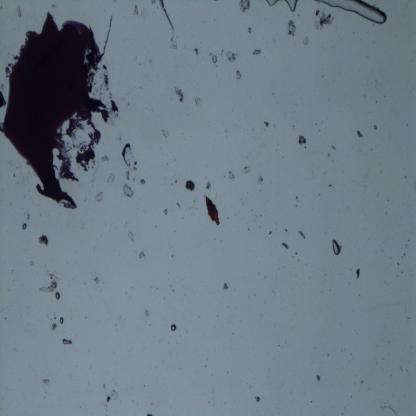Air bubble: (317, 0, 389, 24), (283, 0, 301, 14), (330, 238, 342, 256), (266, 0, 281, 10), (61, 336, 72, 347), (22, 220, 29, 232), (170, 321, 177, 332), (56, 292, 62, 301), (59, 316, 64, 326)
Background material: (312, 8, 335, 29), (38, 278, 59, 295), (284, 16, 298, 39), (120, 142, 132, 166), (375, 404, 398, 416), (224, 49, 238, 64), (174, 86, 186, 103), (121, 185, 135, 199), (239, 0, 252, 14), (0, 83, 7, 108), (106, 171, 116, 188), (234, 67, 244, 83), (184, 180, 196, 193), (38, 234, 50, 247), (250, 47, 264, 57), (242, 164, 252, 178), (297, 135, 308, 147), (161, 126, 170, 140), (204, 179, 213, 193), (94, 192, 105, 203), (298, 230, 308, 242), (300, 34, 310, 46), (228, 168, 236, 182), (211, 52, 219, 66), (194, 96, 202, 110), (93, 275, 104, 285), (112, 385, 119, 400), (132, 5, 140, 18), (101, 154, 111, 164), (124, 168, 131, 182), (223, 280, 231, 292), (127, 229, 134, 242), (137, 251, 147, 260), (280, 242, 290, 251), (139, 176, 148, 186), (24, 209, 31, 221), (355, 267, 361, 281), (357, 128, 364, 140), (258, 174, 264, 186), (316, 374, 323, 383), (144, 308, 150, 318), (372, 123, 379, 131), (133, 160, 138, 171), (44, 376, 50, 385), (194, 46, 199, 56), (176, 200, 181, 210), (256, 394, 261, 404), (266, 230, 273, 237), (147, 57, 154, 64), (168, 252, 175, 259), (330, 143, 336, 151), (325, 151, 331, 159), (18, 6, 22, 17), (52, 312, 58, 319), (328, 182, 335, 188), (399, 363, 404, 371), (11, 170, 16, 178), (106, 395, 111, 403), (163, 207, 168, 215), (50, 2, 56, 8), (264, 121, 270, 127), (52, 323, 57, 330), (247, 27, 252, 34), (148, 0, 156, 4), (30, 260, 34, 268), (100, 382, 105, 388), (312, 121, 318, 126), (406, 316, 411, 321), (295, 195, 300, 200), (283, 227, 287, 233), (361, 380, 365, 386), (380, 357, 385, 361), (169, 283, 173, 288), (171, 288, 175, 293), (247, 226, 250, 232), (147, 414, 153, 416), (403, 252, 406, 256), (404, 174, 406, 178), (397, 262, 399, 266)
Cellulose filter fibre: (158, 1, 176, 43)
Fragment: (204, 194, 221, 227)
Pen: (0, 10, 121, 211)
